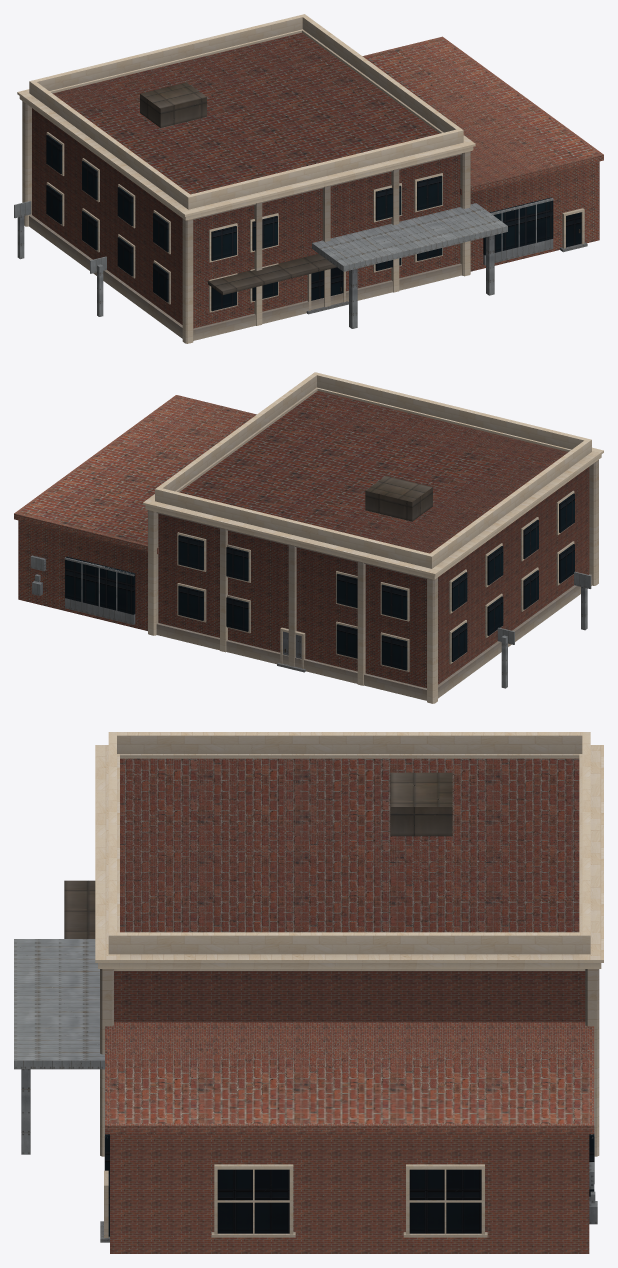
Rendered from riverside-community-center_lod0.gltf.
The picture shows the model from 3 angles, top to bottom: view 1: azimuth 30°, elevation 25°; view 2: azimuth 150°, elevation 25°; view 3: azimuth 270°, elevation 25°; orthographic projection. The views are drawn at different scales.
Parts seen in each view (by area): view 1: riverside-community-center_tier0, riverside-community-center__v4_stone_detail, riverside-community-center_tier1, riverside-community-center__parapet_wing, riverside-community-center_fen_07-glass-curtain-blue_1_t, riverside-community-center__parapet_main, riverside-community-center__dropoff_canopy, riverside-community-center__v4_metal_detail, riverside-community-center_fen_04-limestone_0, riverside-community-center_fen_14-steel-panel_4, riverside-community-center__canopy_post_a, riverside-community-center__canopy_post_b; view 2: riverside-community-center_tier0, riverside-community-center__v4_stone_detail, riverside-community-center_tier1, riverside-community-center_fen_07-glass-curtain-blue_1_t, riverside-community-center__parapet_main, riverside-community-center__parapet_wing, riverside-community-center_fen_04-limestone_0, riverside-community-center__v4_metal_detail, riverside-community-center_fen_14-steel-panel_4; view 3: riverside-community-center_tier0, riverside-community-center_tier1, riverside-community-center__parapet_main, riverside-community-center__v4_stone_detail, riverside-community-center__parapet_wing, riverside-community-center__dropoff_canopy, riverside-community-center_fen_07-glass-curtain-blue_1_t, riverside-community-center__v4_metal_detail, riverside-community-center_fen_04-limestone_0, riverside-community-center__canopy_post_b.
Part boxes in pixels (bbox=[...]): riverside-community-center_tier0: bbox=[32, 33, 460, 328]; riverside-community-center__v4_stone_detail: bbox=[17, 14, 475, 343]; riverside-community-center_tier1: bbox=[364, 38, 599, 271]; riverside-community-center__parapet_wing: bbox=[362, 36, 603, 194]; riverside-community-center_fen_07-glass-curtain-blue_1_t: bbox=[46, 134, 581, 311]; riverside-community-center__parapet_main: bbox=[52, 32, 437, 187]; riverside-community-center__dropoff_canopy: bbox=[312, 203, 507, 271]; riverside-community-center__v4_metal_detail: bbox=[140, 82, 336, 294]; riverside-community-center_fen_04-limestone_0: bbox=[46, 132, 584, 312]; riverside-community-center_fen_14-steel-panel_4: bbox=[483, 198, 553, 265]; riverside-community-center__canopy_post_a: bbox=[349, 268, 357, 328]; riverside-community-center__canopy_post_b: bbox=[486, 235, 494, 295]; riverside-community-center_tier0: bbox=[158, 391, 589, 688]; riverside-community-center__v4_stone_detail: bbox=[143, 372, 603, 703]; riverside-community-center_tier1: bbox=[18, 396, 254, 630]; riverside-community-center_fen_07-glass-curtain-blue_1_t: bbox=[65, 493, 574, 670]; riverside-community-center__parapet_main: bbox=[252, 391, 568, 553]; riverside-community-center__parapet_wing: bbox=[14, 395, 256, 553]; riverside-community-center_fen_04-limestone_0: bbox=[177, 490, 574, 671]; riverside-community-center__v4_metal_detail: bbox=[365, 475, 432, 521]; riverside-community-center_fen_14-steel-panel_4: bbox=[30, 555, 301, 658]; riverside-community-center_tier0: bbox=[114, 758, 585, 1022]; riverside-community-center_tier1: bbox=[110, 1026, 589, 1253]; riverside-community-center__parapet_main: bbox=[120, 758, 579, 932]; riverside-community-center__v4_stone_detail: bbox=[95, 732, 603, 1156]; riverside-community-center__parapet_wing: bbox=[105, 1022, 594, 1134]; riverside-community-center__dropoff_canopy: bbox=[14, 939, 104, 1069]; riverside-community-center_fen_07-glass-curtain-blue_1_t: bbox=[105, 1134, 594, 1236]; riverside-community-center__v4_metal_detail: bbox=[64, 772, 452, 938]; riverside-community-center_fen_04-limestone_0: bbox=[104, 1164, 487, 1237]; riverside-community-center__canopy_post_b: bbox=[21, 1069, 30, 1154].
Size of the model in its own units: 33.88 by 10.35 by 24.61.
